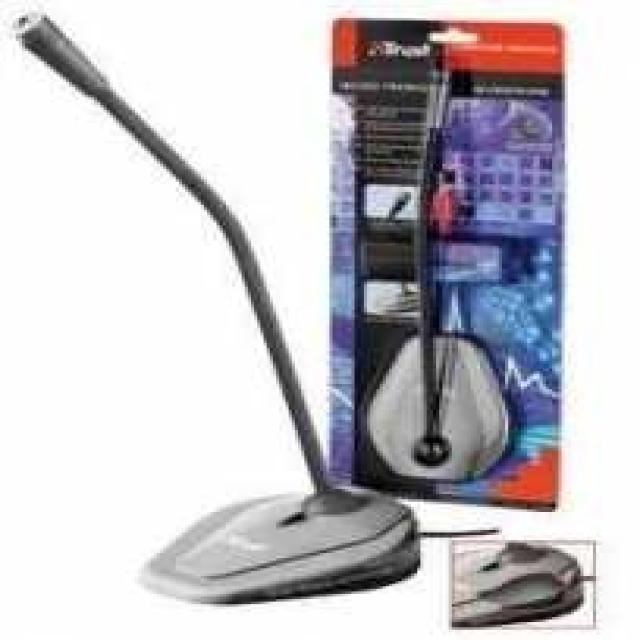microphone: (13, 10, 109, 99)
